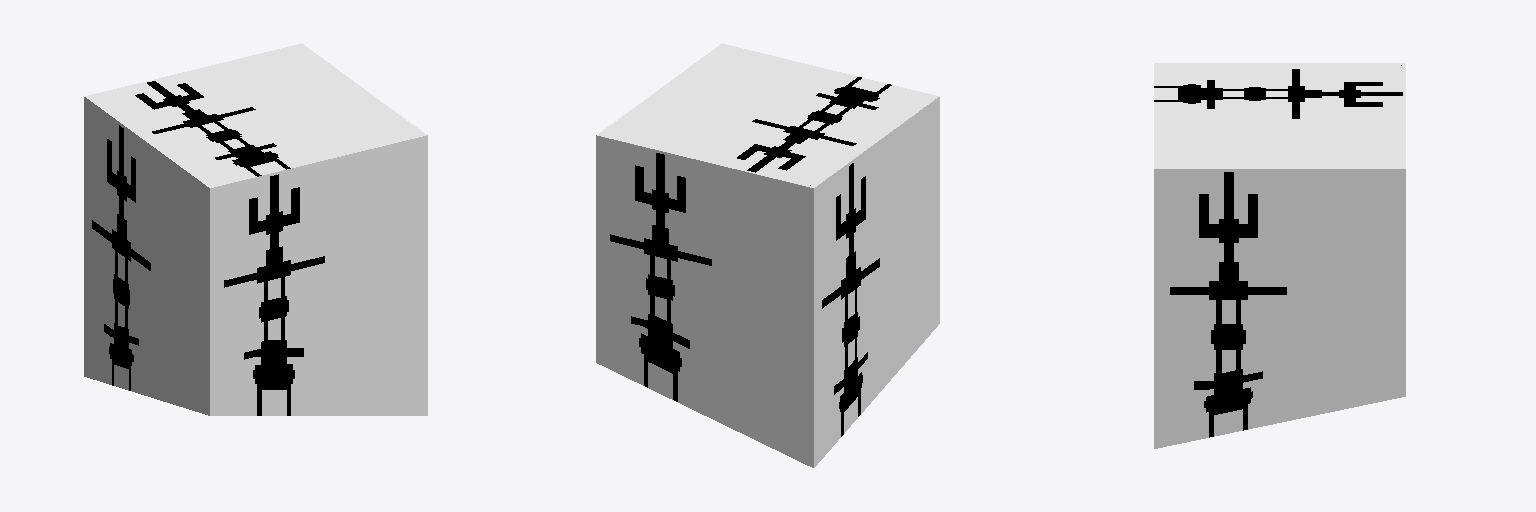
3 views of the same model, side by side, from view 1: azimuth 30°, elevation 25°; view 2: azimuth 150°, elevation 25°; view 3: azimuth 270°, elevation 25° (orthographic).
Visible parts, largest first — view 1: cube; view 2: cube; view 3: cube.
Boxes of the visible parts, x1,y1,x2,y2 form: cube: [84, 43, 427, 415]; cube: [596, 43, 939, 467]; cube: [1154, 63, 1405, 448].
Size of the model in its own units: 13 by 16 by 13.
Materials: 1 (1 with a texture image).